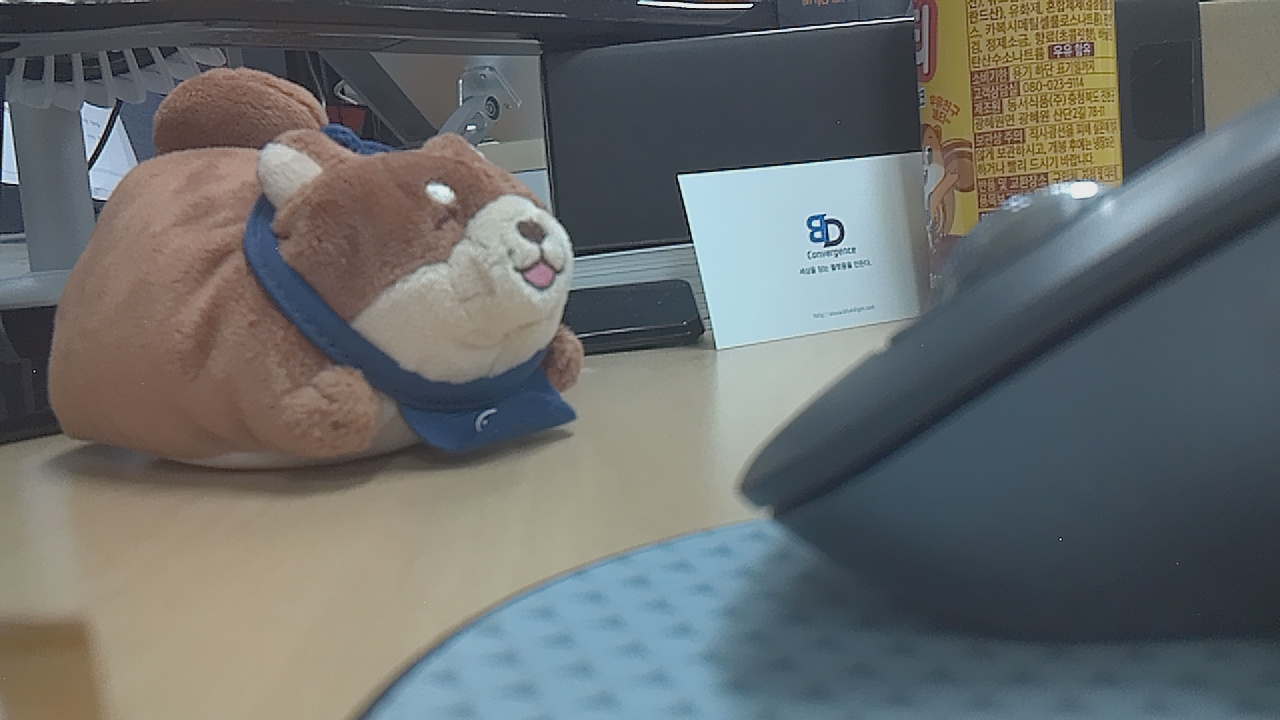cuteDog: (37, 127, 628, 520)
